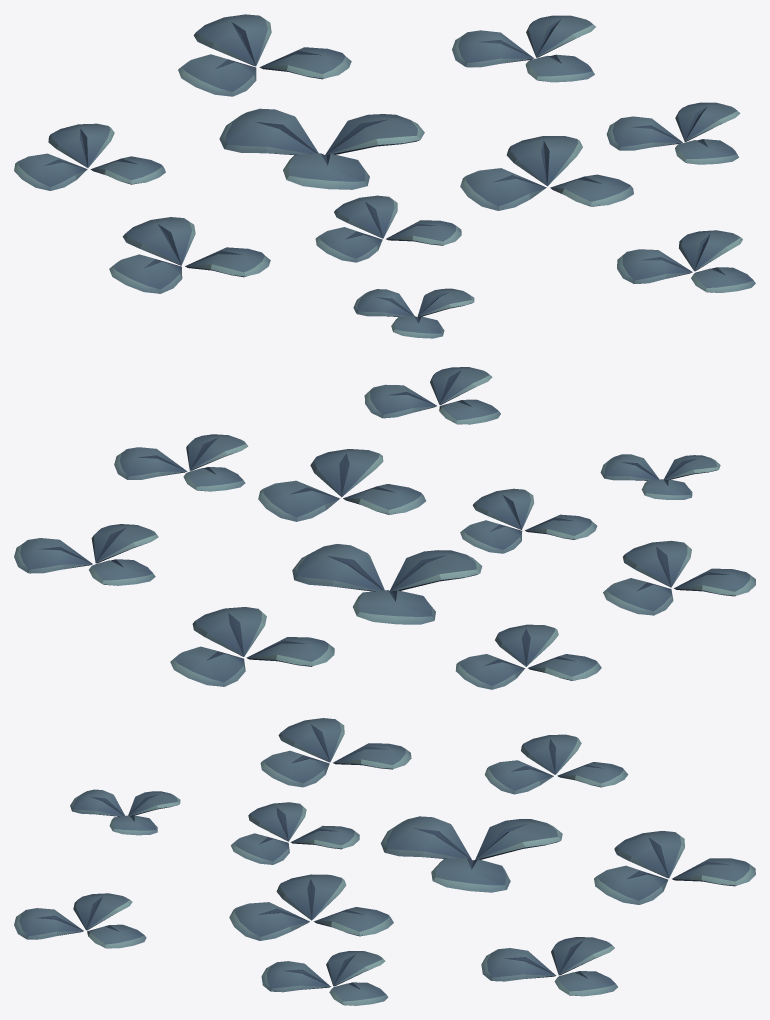
The model's file is clover_winter.glb.
The picture shows the model from 3 angles, top to bottom: view 1: azimuth 30°, elevation 25°; view 2: azimuth 150°, elevation 25°; view 3: azimuth 270°, elevation 25°; orthographic projection. The views are drawn at different scales.
Visible parts, largest first — view 1: clover_winter; view 2: clover_winter; view 3: clover_winter.
Part boxes in pixels (x1,y1,x2,y2): clover_winter: [14, 14, 755, 338]; clover_winter: [14, 367, 755, 689]; clover_winter: [14, 718, 755, 1005].
Size of the model in its own units: 2.32 by 0.0816 by 2.55.
1 material, 1 textured.
